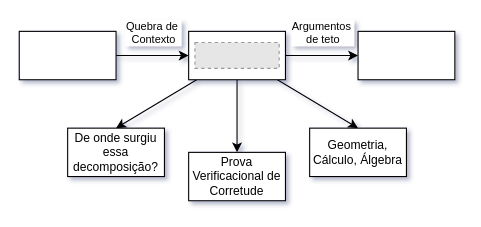
Some shapes in this 481 by 227 pixel diagram are drawn without their labels. Grey dashed boxes stand in for pictures. The centre of each missing label's shape, as x and y in pixels:
"Problemas de Otimização" goes at pixel 67 55.
"Soluções" goes at pixel 406 55.
